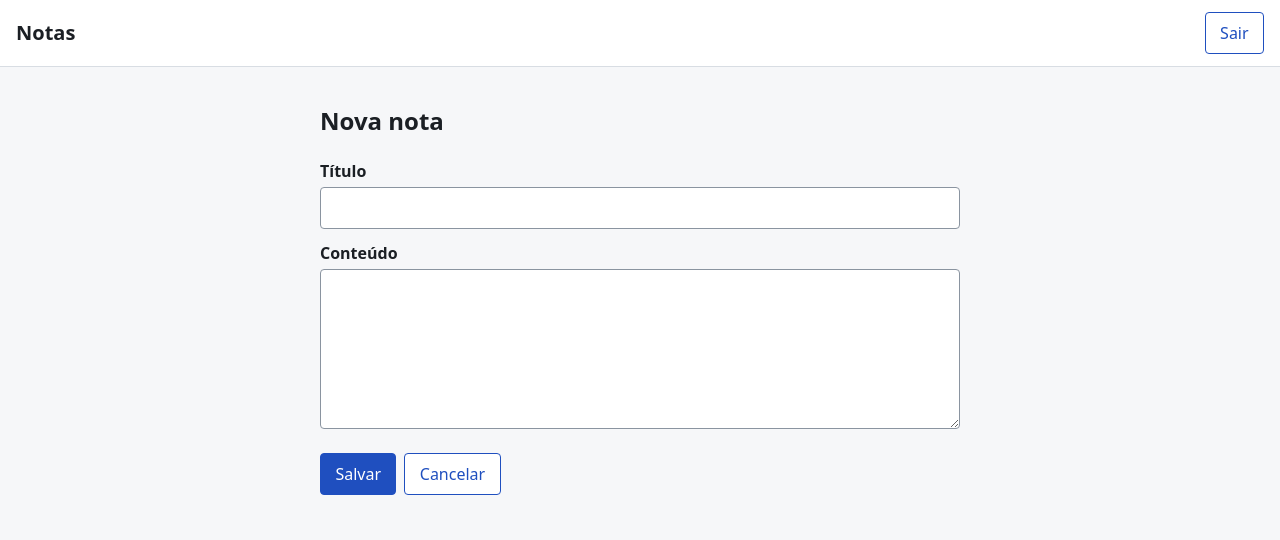
Test: formulário de nota › mostra erros 400 por campo e preserva o rascunho
Type "Meu título" into the field labelled "Título".
click(640, 208); type("Meu título")  # box [320, 187, 960, 229]
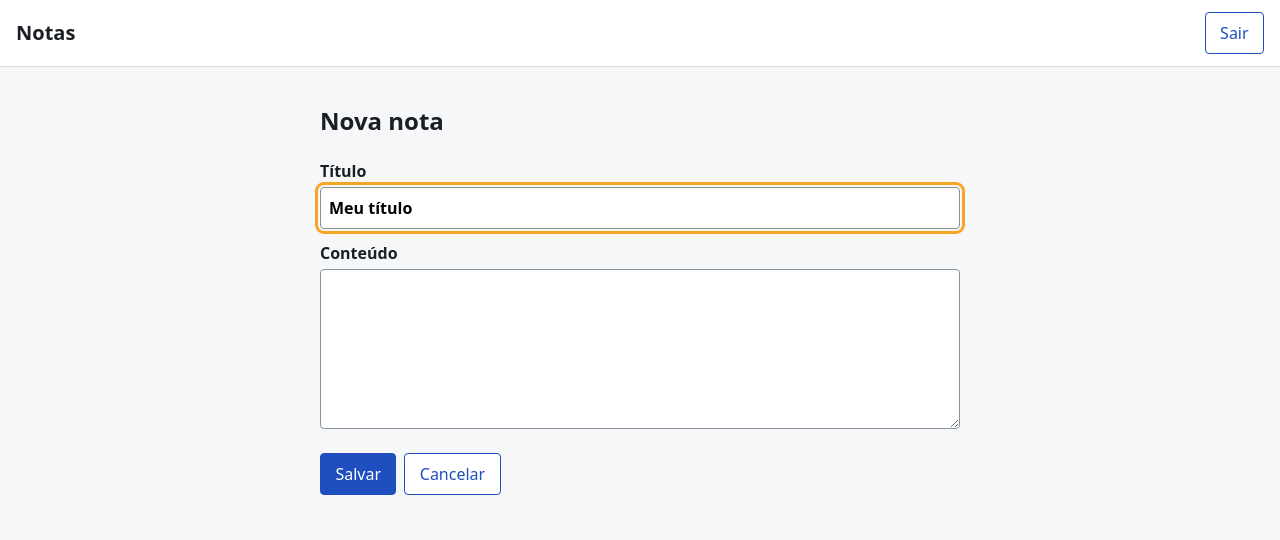
Type "Meu texto" into the text box labelled "Conteúdo".
click(640, 349); type("Meu texto")  # box [320, 269, 960, 429]
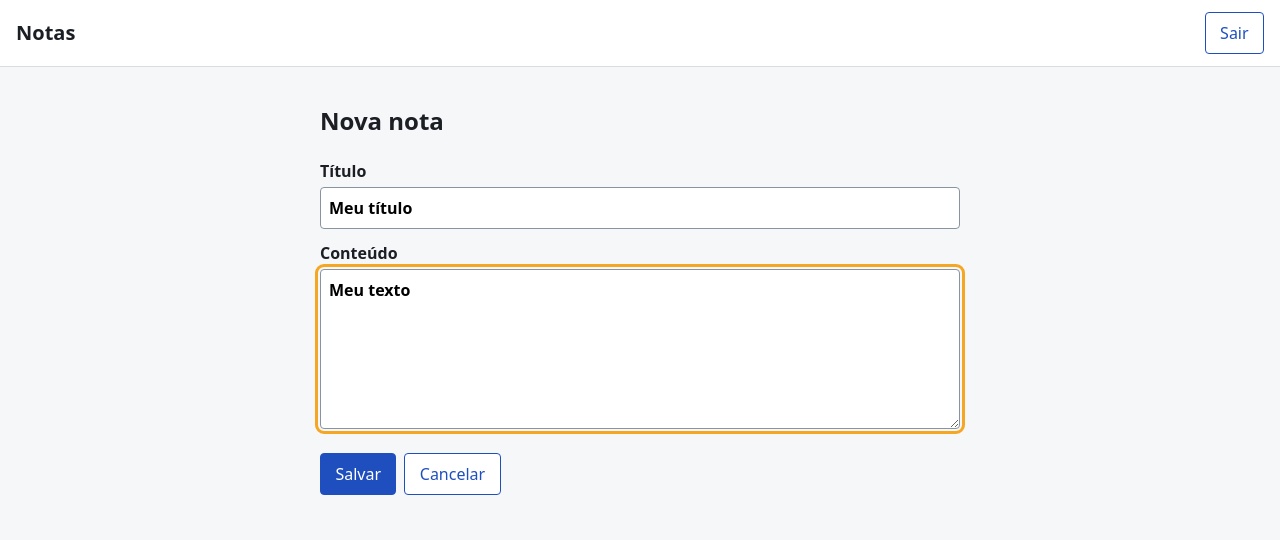
Click the button "Salvar".
click(358, 474)  # box [320, 453, 396, 495]
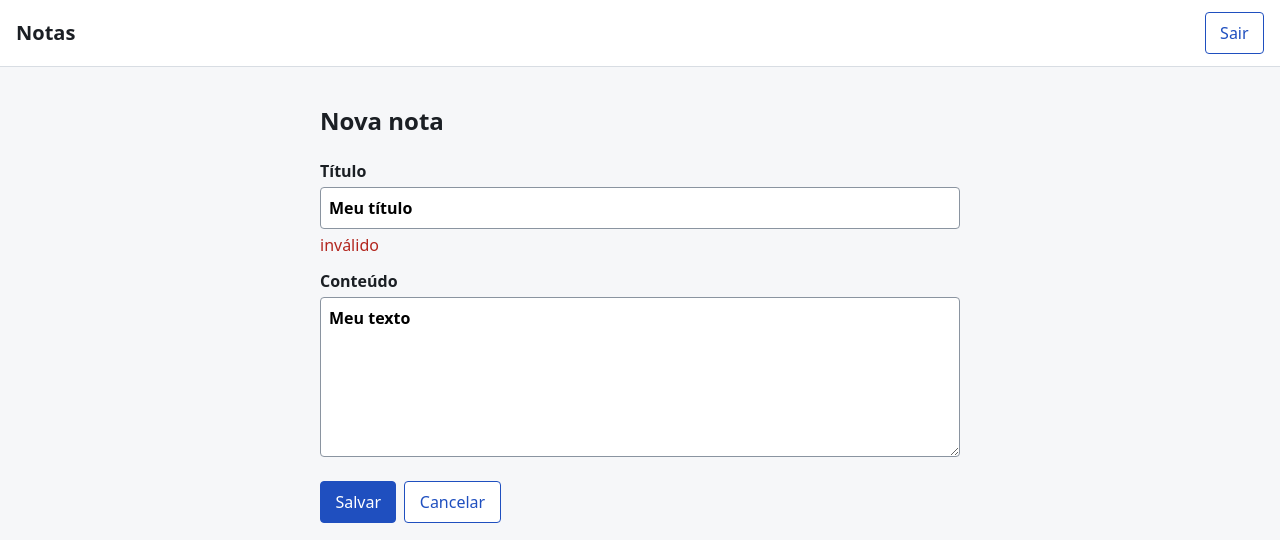
Check: the text "inválido" is shown, box [320, 234, 379, 256]
